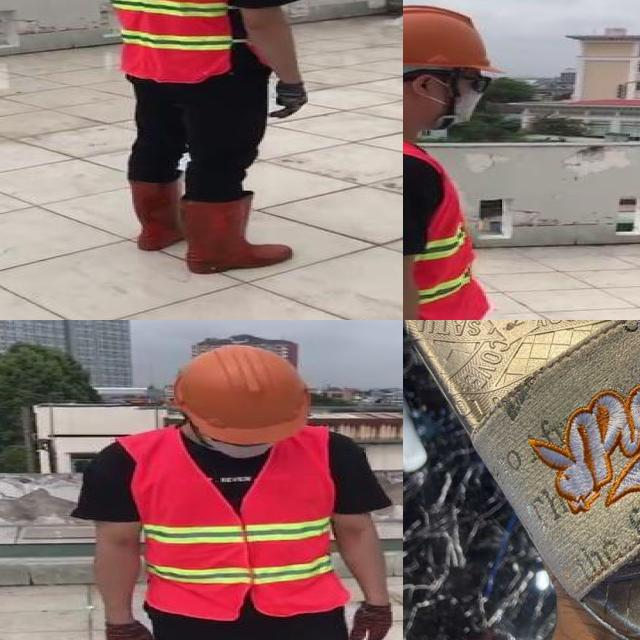Sandals: (403, 320, 640, 640)
boots: (177, 191, 296, 277), (121, 176, 180, 256)
hand_glove: (269, 79, 311, 120), (348, 603, 394, 640), (104, 621, 159, 640)
head_helmet: (167, 345, 314, 440), (403, 0, 504, 75)
person: (67, 341, 403, 640), (76, 0, 326, 278), (403, 2, 512, 320)
vest: (113, 428, 344, 617), (403, 123, 487, 320), (98, 0, 235, 83)
